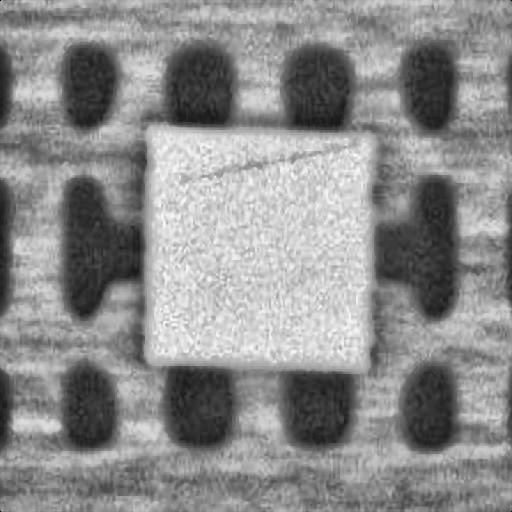DIE_CRACK: (265, 94, 512, 118)
